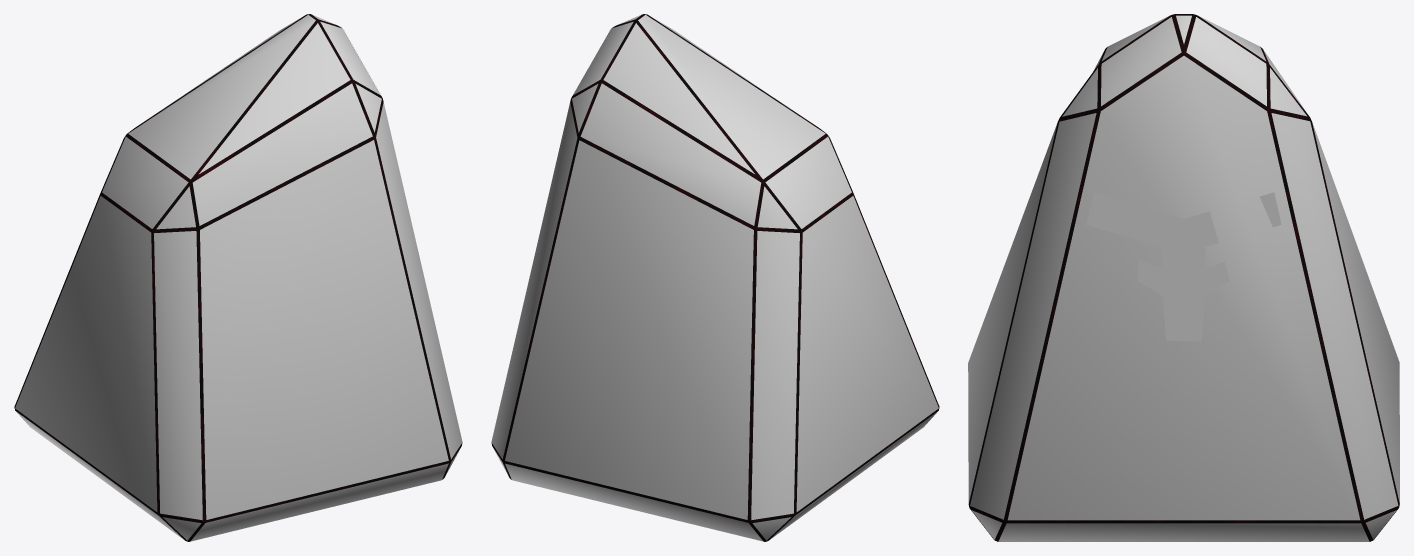
Rendered from EndSentinelRock.fbx.
The picture shows the model from 3 angles, left to right: view 1: azimuth 30°, elevation 25°; view 2: azimuth 150°, elevation 25°; view 3: azimuth 270°, elevation 25°; orthographic projection. The views are drawn at different scales.
Parts seen in each view (by area): view 1: Cube; view 2: Cube; view 3: Cube, Cube_001.
Boxes of the visible parts, bbox=[...] form: Cube: bbox=[14, 14, 462, 541]; Cube: bbox=[491, 14, 939, 541]; Cube: bbox=[968, 14, 1399, 541]; Cube_001: bbox=[1086, 192, 1281, 341].
Bounding box in the file's own units: 1.7 × 2.25 × 1.76.
3 materials, 1 textured.
